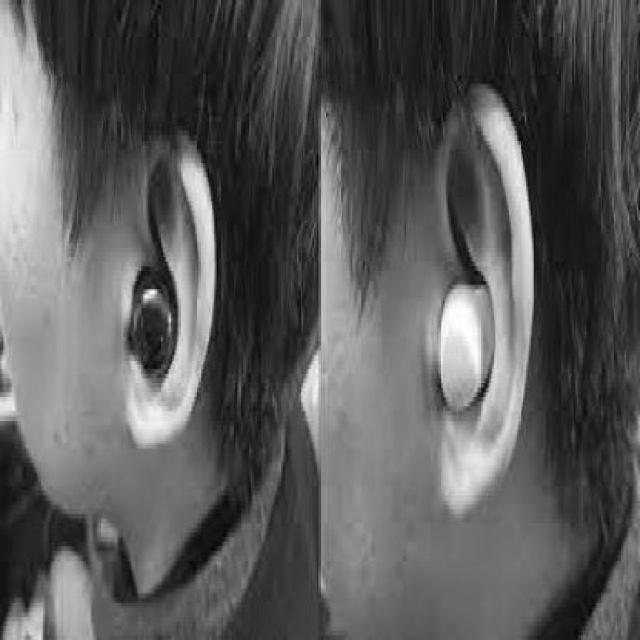earphone: (102, 255, 214, 402), (418, 248, 504, 422)
